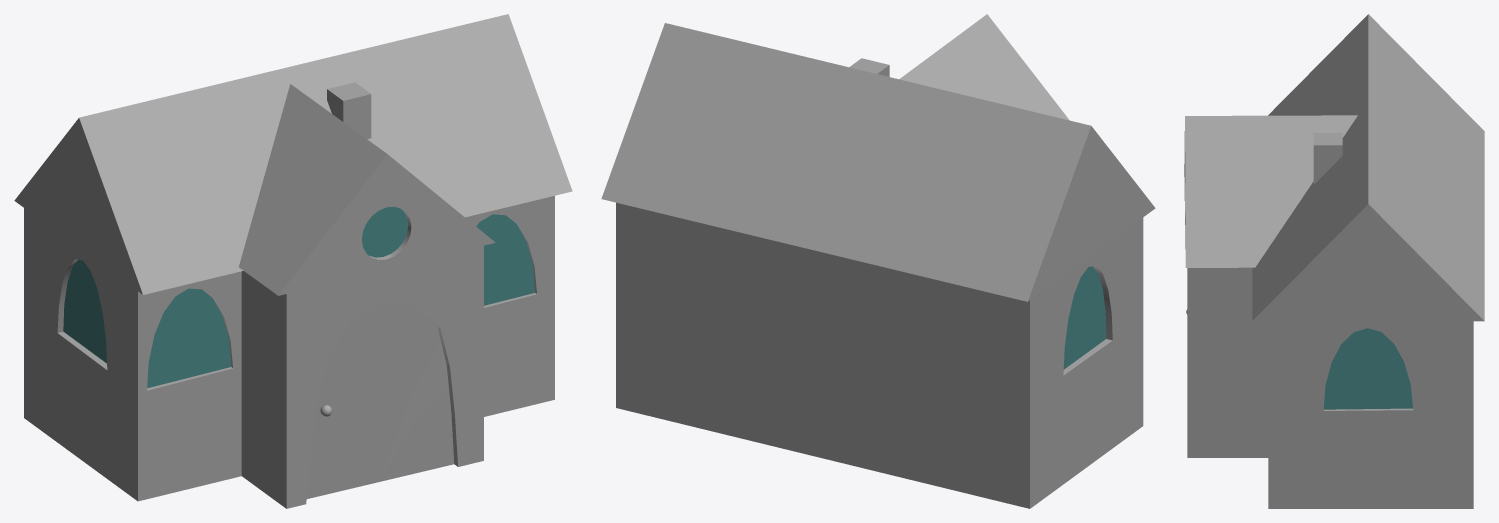
File: House3.fbx
The picture shows the model from 3 angles, left to right: view 1: azimuth 30°, elevation 25°; view 2: azimuth 150°, elevation 25°; view 3: azimuth 270°, elevation 25°; orthographic projection. The views are drawn at different scales.
Visible parts, largest first — view 1: House3; view 2: House3; view 3: House3.
Boxes of the visible parts, left/top/right/bottom form: House3: left=14, top=14, right=572, bottom=508; House3: left=601, top=14, right=1155, bottom=508; House3: left=1184, top=14, right=1484, bottom=508.
Bounding box in the file's own units: 607 × 464 × 407.
